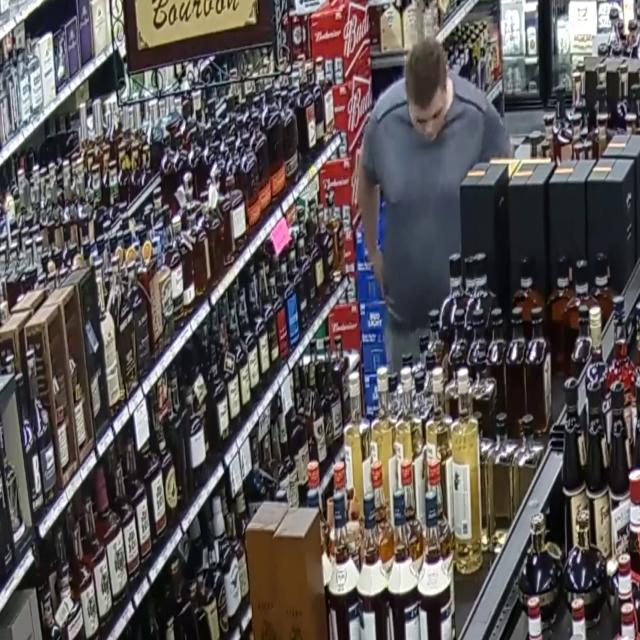normal: (325, 0, 500, 446)
